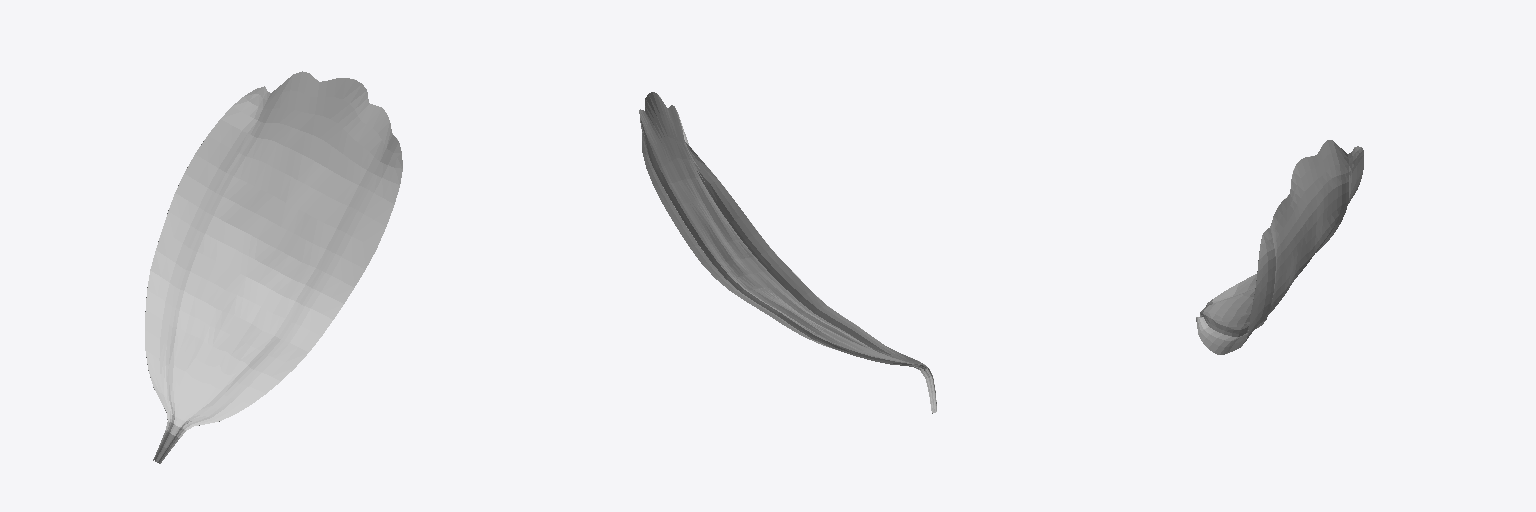
File: petal2.obj
3 renders of one model, left to right at view 1: azimuth 30°, elevation 25°; view 2: azimuth 150°, elevation 25°; view 3: azimuth 270°, elevation 25°, orthographic.
Parts seen in each view (by area): view 1: facb_petal_2; view 2: facb_petal_2; view 3: facb_petal_2.
Part boxes in pixels (left/top/right/bottom): facb_petal_2: left=145, top=71, right=402, bottom=463; facb_petal_2: left=639, top=92, right=936, bottom=413; facb_petal_2: left=1196, top=140, right=1363, bottom=354.
Size of the model in its own units: 1.62 by 1.71 by 0.8686.